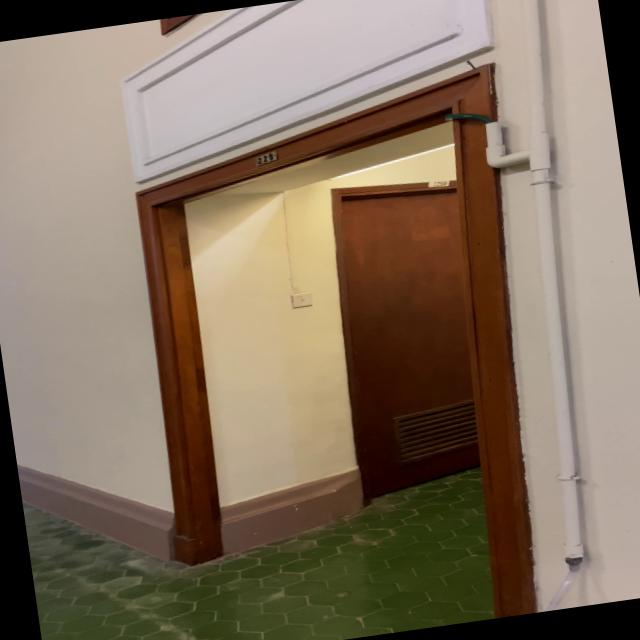room229: (252, 149, 282, 168)
